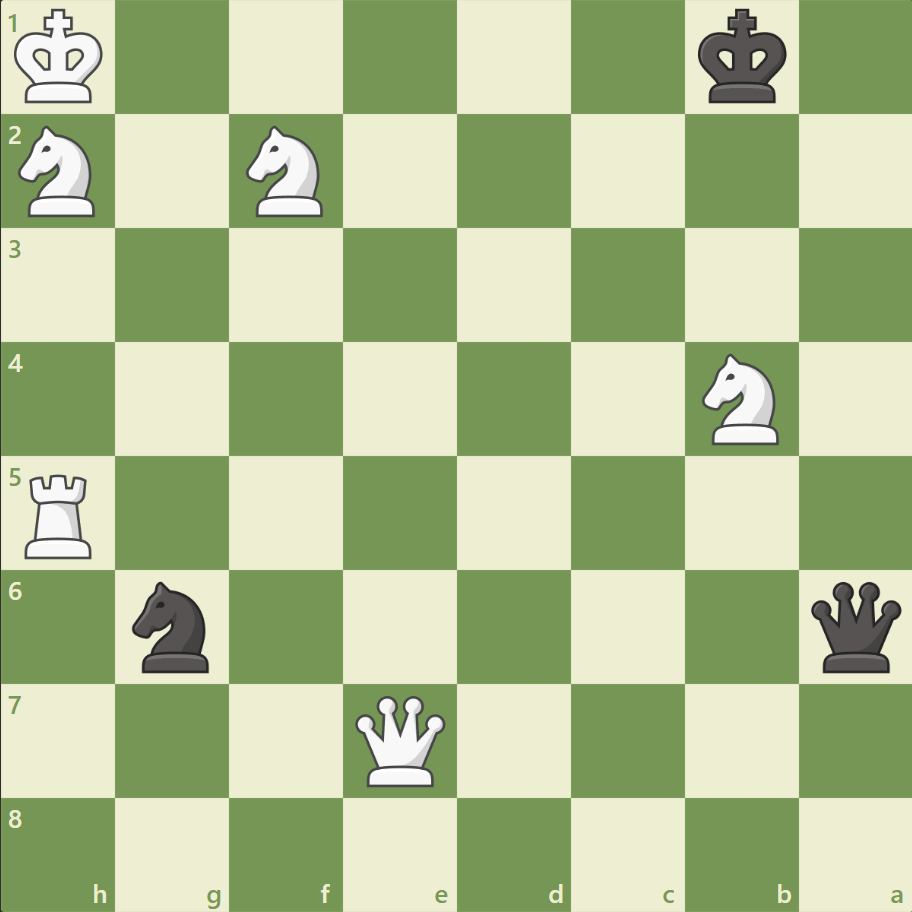K: (11, 4, 111, 112)
N: (692, 348, 789, 450), (238, 121, 335, 223), (11, 121, 108, 223)
Q: (351, 690, 450, 789)
R: (19, 466, 102, 563)
k: (692, 4, 792, 112)
n: (124, 575, 222, 677)
q: (805, 576, 904, 676)
